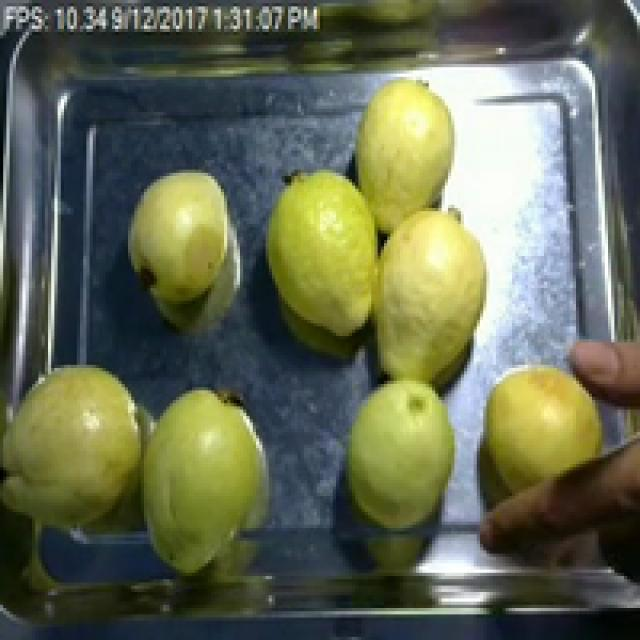Fruit: (125, 378, 285, 586), (0, 352, 157, 560), (368, 192, 506, 406), (256, 157, 390, 355), (329, 365, 474, 541), (470, 348, 624, 506), (342, 64, 473, 234), (122, 160, 243, 317)
